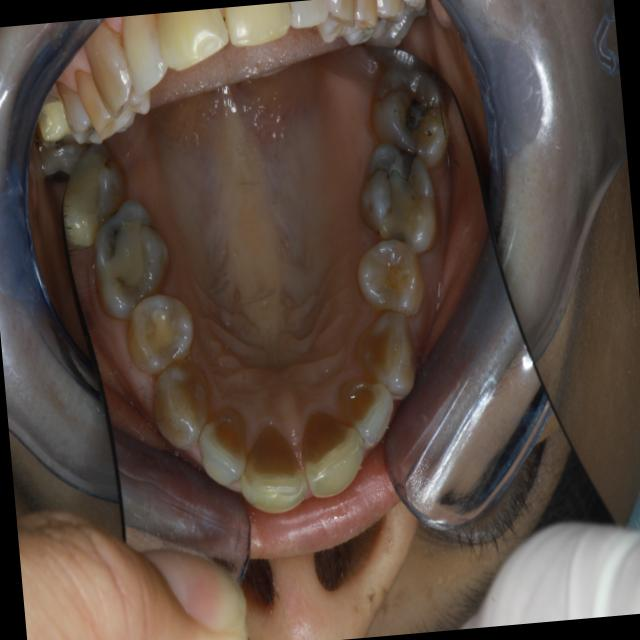tooth: (79, 184, 182, 334), (356, 43, 462, 175), (348, 128, 448, 265), (112, 282, 204, 387), (292, 389, 369, 509), (51, 142, 134, 253), (138, 350, 221, 460), (229, 412, 312, 520), (351, 223, 434, 330), (348, 299, 427, 411), (185, 394, 257, 499), (323, 368, 402, 463)
